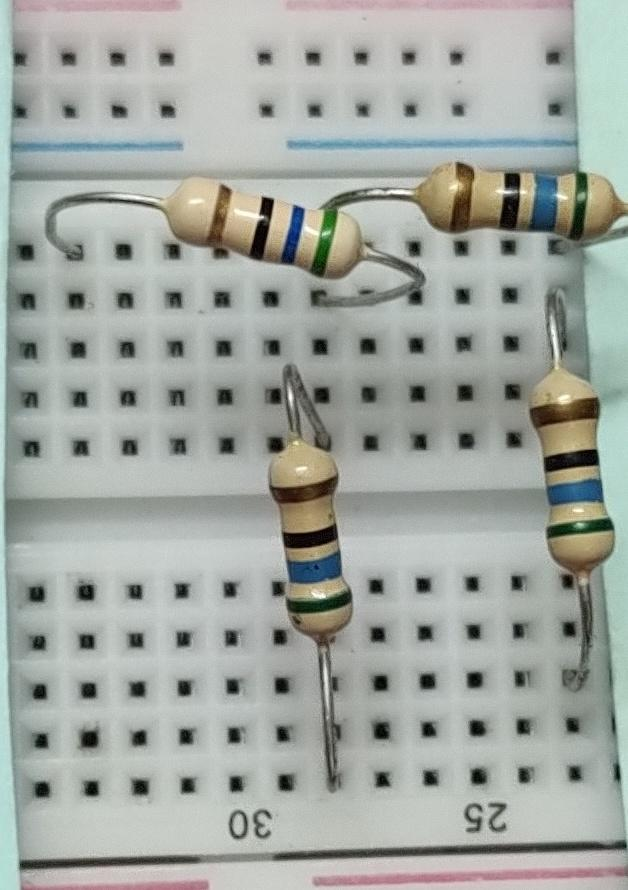resistor: (155, 168, 370, 298), (505, 360, 625, 570), (263, 425, 368, 653), (405, 152, 622, 262)
